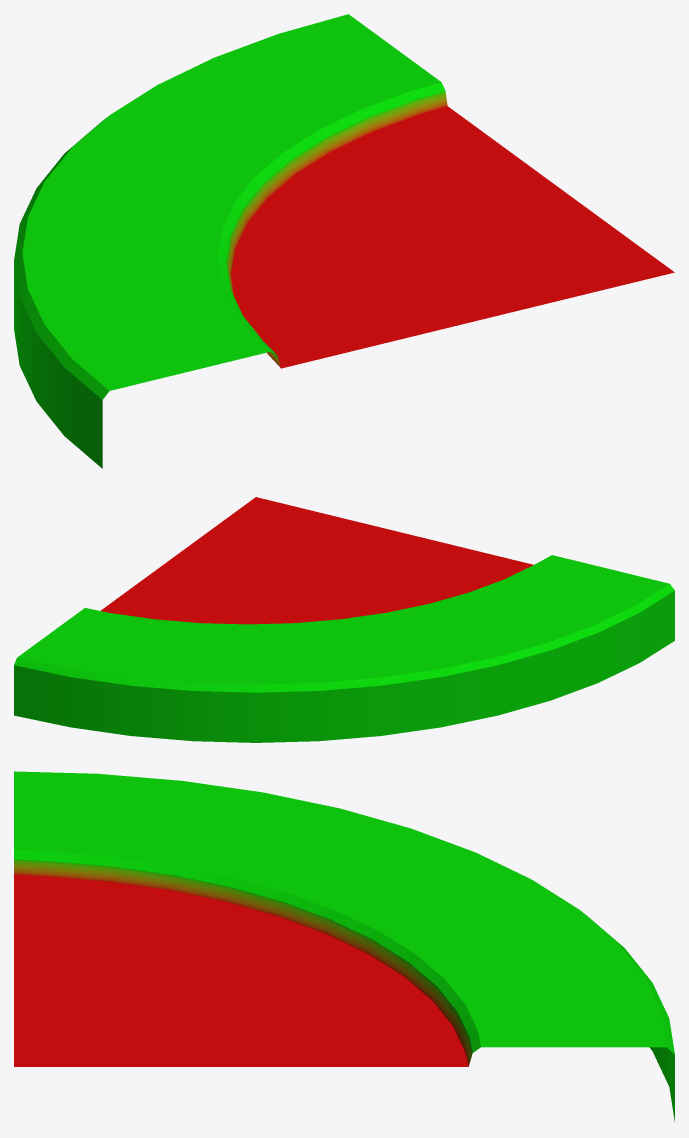
Rendered from WideRoadA_Corner.fbx.
3 renders of one model, top to bottom at view 1: azimuth 30°, elevation 25°; view 2: azimuth 150°, elevation 25°; view 3: azimuth 270°, elevation 25°, orthographic. The views are drawn at different scales.
Visible parts, largest first — view 1: WideRoadA_Corner; view 2: WideRoadA_Corner; view 3: WideRoadA_Corner.
Boxes of the visible parts, x1,y1,x2,y2 form: WideRoadA_Corner: (14, 14, 674, 468); WideRoadA_Corner: (14, 497, 674, 742); WideRoadA_Corner: (14, 771, 674, 1121).
Bounding box in the file's own units: 2 × 2 × 0.2542.
